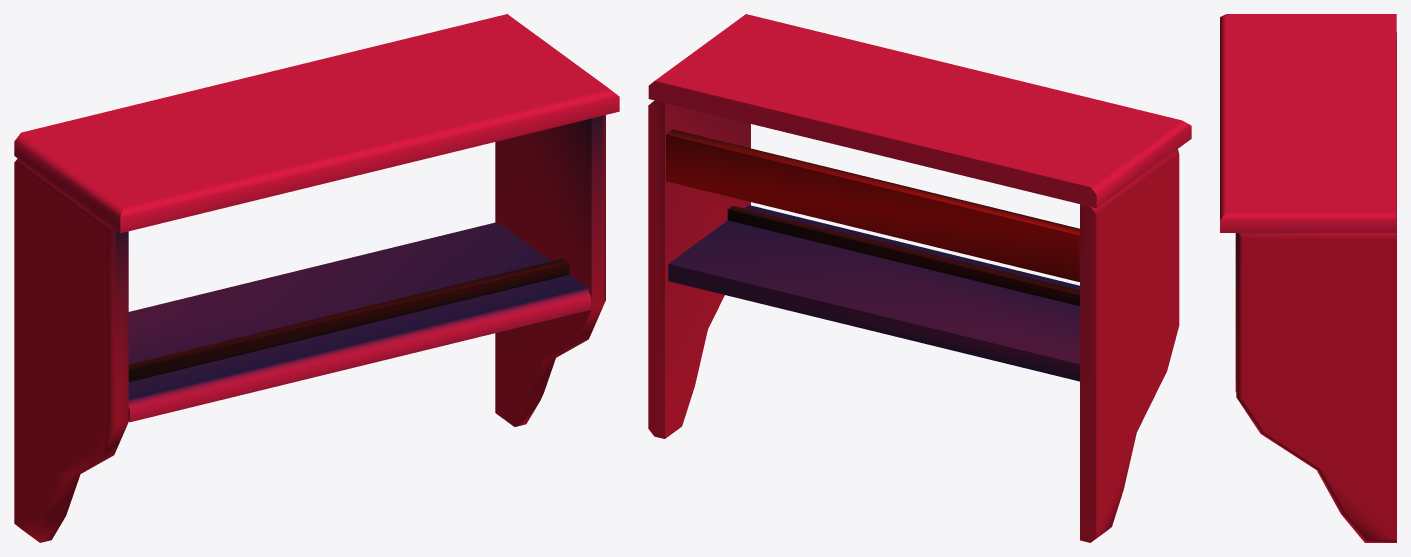
The model's file is CI_Kitchen_WallShelf_Open_0p6m.glb.
The picture shows the model from 3 angles, left to right: view 1: azimuth 30°, elevation 25°; view 2: azimuth 150°, elevation 25°; view 3: azimuth 270°, elevation 25°; orthographic projection. The views are drawn at different scales.
Parts seen in each view (by area): view 1: CI_Kitchen_WallShelf_Open_0p6m; view 2: CI_Kitchen_WallShelf_Open_0p6m; view 3: CI_Kitchen_WallShelf_Open_0p6m.
Boxes of the visible parts, left/top/right/bottom form: CI_Kitchen_WallShelf_Open_0p6m: left=14, top=14, right=619, bottom=542; CI_Kitchen_WallShelf_Open_0p6m: left=648, top=14, right=1191, bottom=542; CI_Kitchen_WallShelf_Open_0p6m: left=1220, top=14, right=1396, bottom=542.
Size of the model in its own units: 0.6 by 0.455 by 0.2205.
